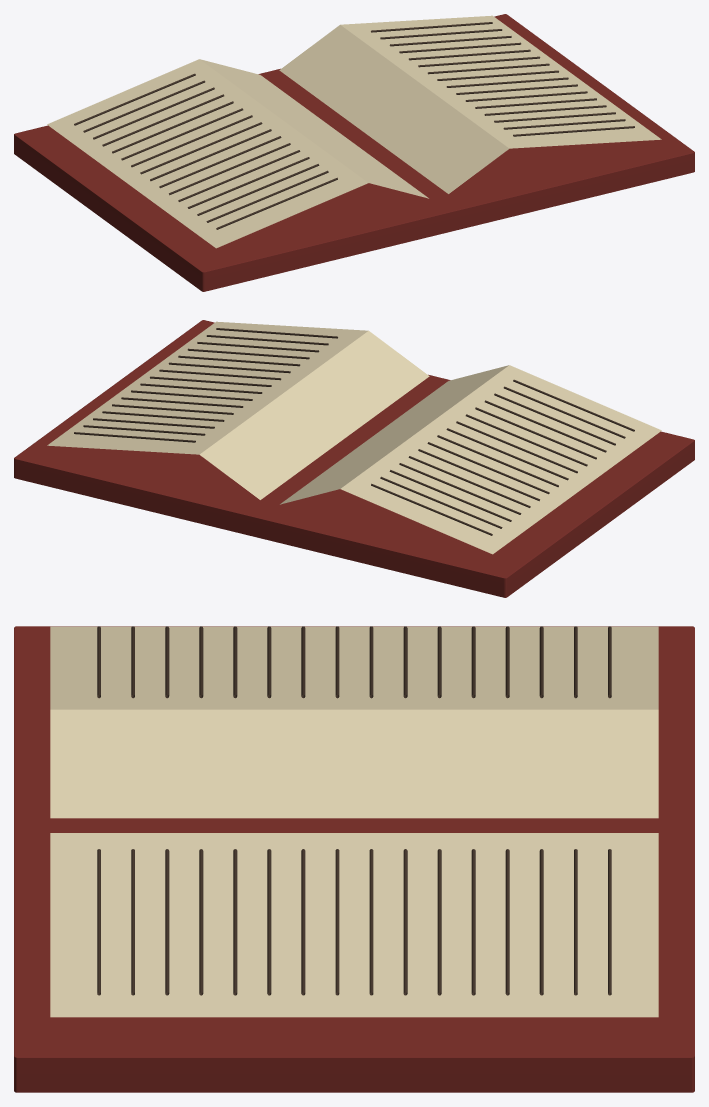
File: Book_Open.fbx
The picture shows the model from 3 angles, top to bottom: view 1: azimuth 30°, elevation 25°; view 2: azimuth 150°, elevation 25°; view 3: azimuth 270°, elevation 25°; orthographic projection. The views are drawn at different scales.
Visible parts, largest first — view 1: Open cover.001, Curved open pages.003, Curved open pages.002; view 2: Open cover.001, Curved open pages.003, Curved open pages.002; view 3: Curved open pages.002, Curved open pages.003, Open cover.001, Printed line.052, Printed line.053, Printed line.054, Printed line.055, Printed line.056, Printed line.057, Printed line.058, Printed line.059, Printed line.050 (+3 smaller).
Boxes of the visible parts, x1,y1,x2,y2 form: Open cover.001: (14, 14, 694, 291); Curved open pages.003: (279, 15, 661, 193); Curved open pages.002: (47, 59, 428, 248); Open cover.001: (14, 320, 694, 597); Curved open pages.003: (47, 321, 429, 499); Curved open pages.002: (280, 365, 661, 554); Curved open pages.002: (50, 626, 658, 818); Curved open pages.003: (50, 833, 658, 1017); Open cover.001: (14, 626, 694, 1092); Printed line.052: (233, 849, 237, 995); Printed line.053: (267, 849, 271, 995); Printed line.054: (301, 849, 305, 995); Printed line.055: (335, 849, 339, 995); Printed line.056: (369, 849, 373, 995); Printed line.057: (403, 849, 407, 995); Printed line.058: (437, 849, 441, 995); Printed line.059: (471, 849, 475, 995); Printed line.050: (165, 849, 169, 995).
Size of the model in its own units: 0.42 by 0.048 by 0.28.
